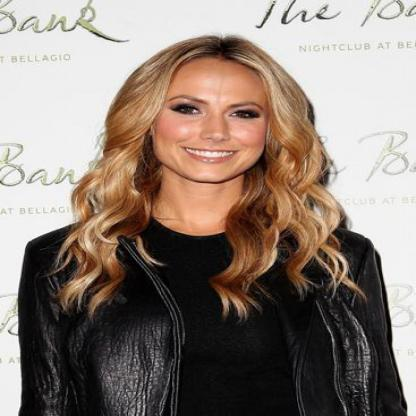long-hair: (56, 182, 350, 232)
